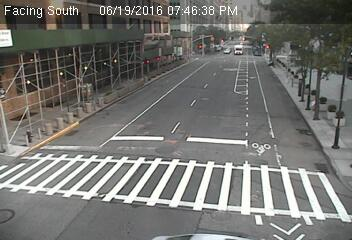neg: (124, 142, 159, 188), (278, 159, 308, 198), (181, 151, 208, 188), (46, 121, 71, 154), (185, 73, 209, 106), (310, 116, 334, 148), (258, 46, 280, 76), (241, 89, 263, 118), (53, 71, 75, 100), (297, 79, 318, 108), (153, 103, 174, 132), (100, 136, 120, 163), (212, 53, 231, 78), (243, 146, 261, 171), (114, 68, 131, 90)
